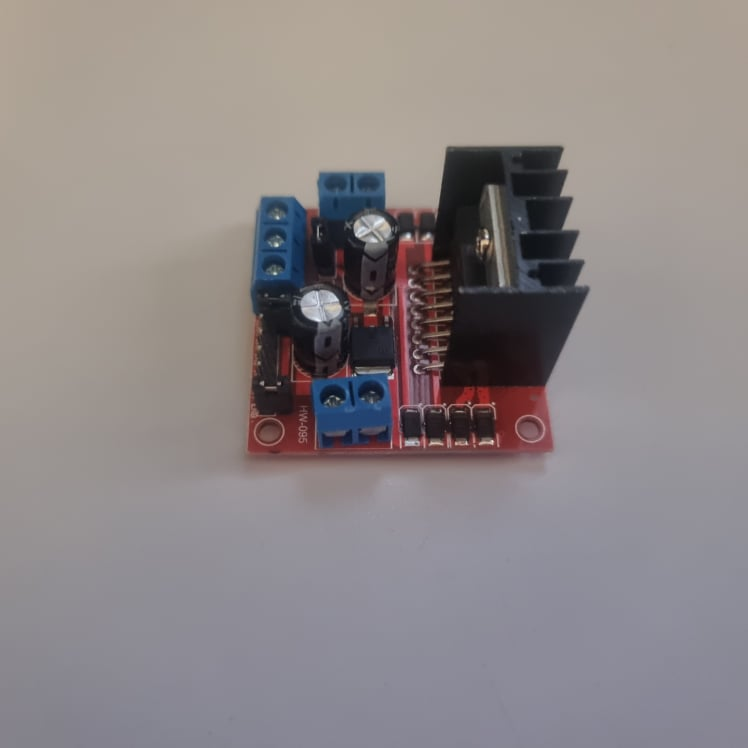MOTOR: (246, 142, 590, 457)
